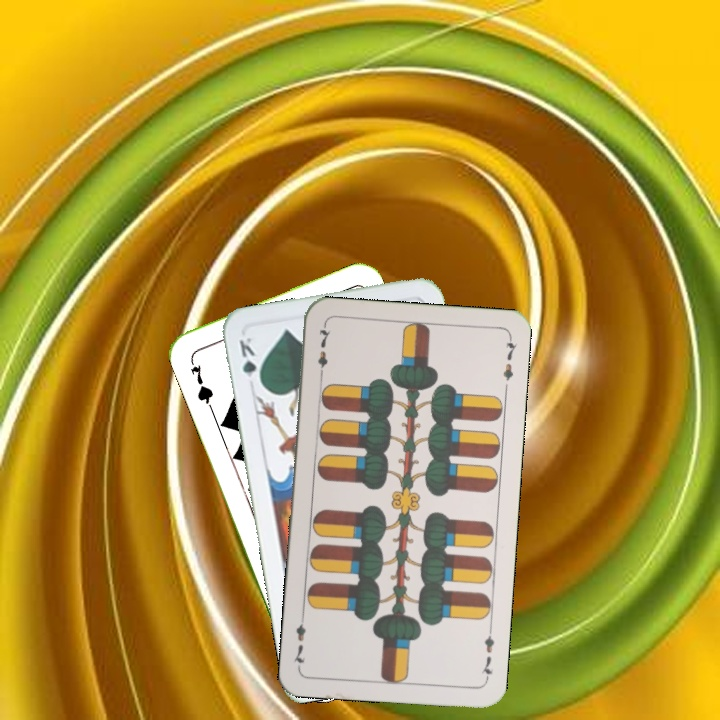E7: (314, 322, 333, 381), (478, 624, 497, 683)
G7: (186, 353, 216, 410)
GK: (235, 333, 264, 389)
